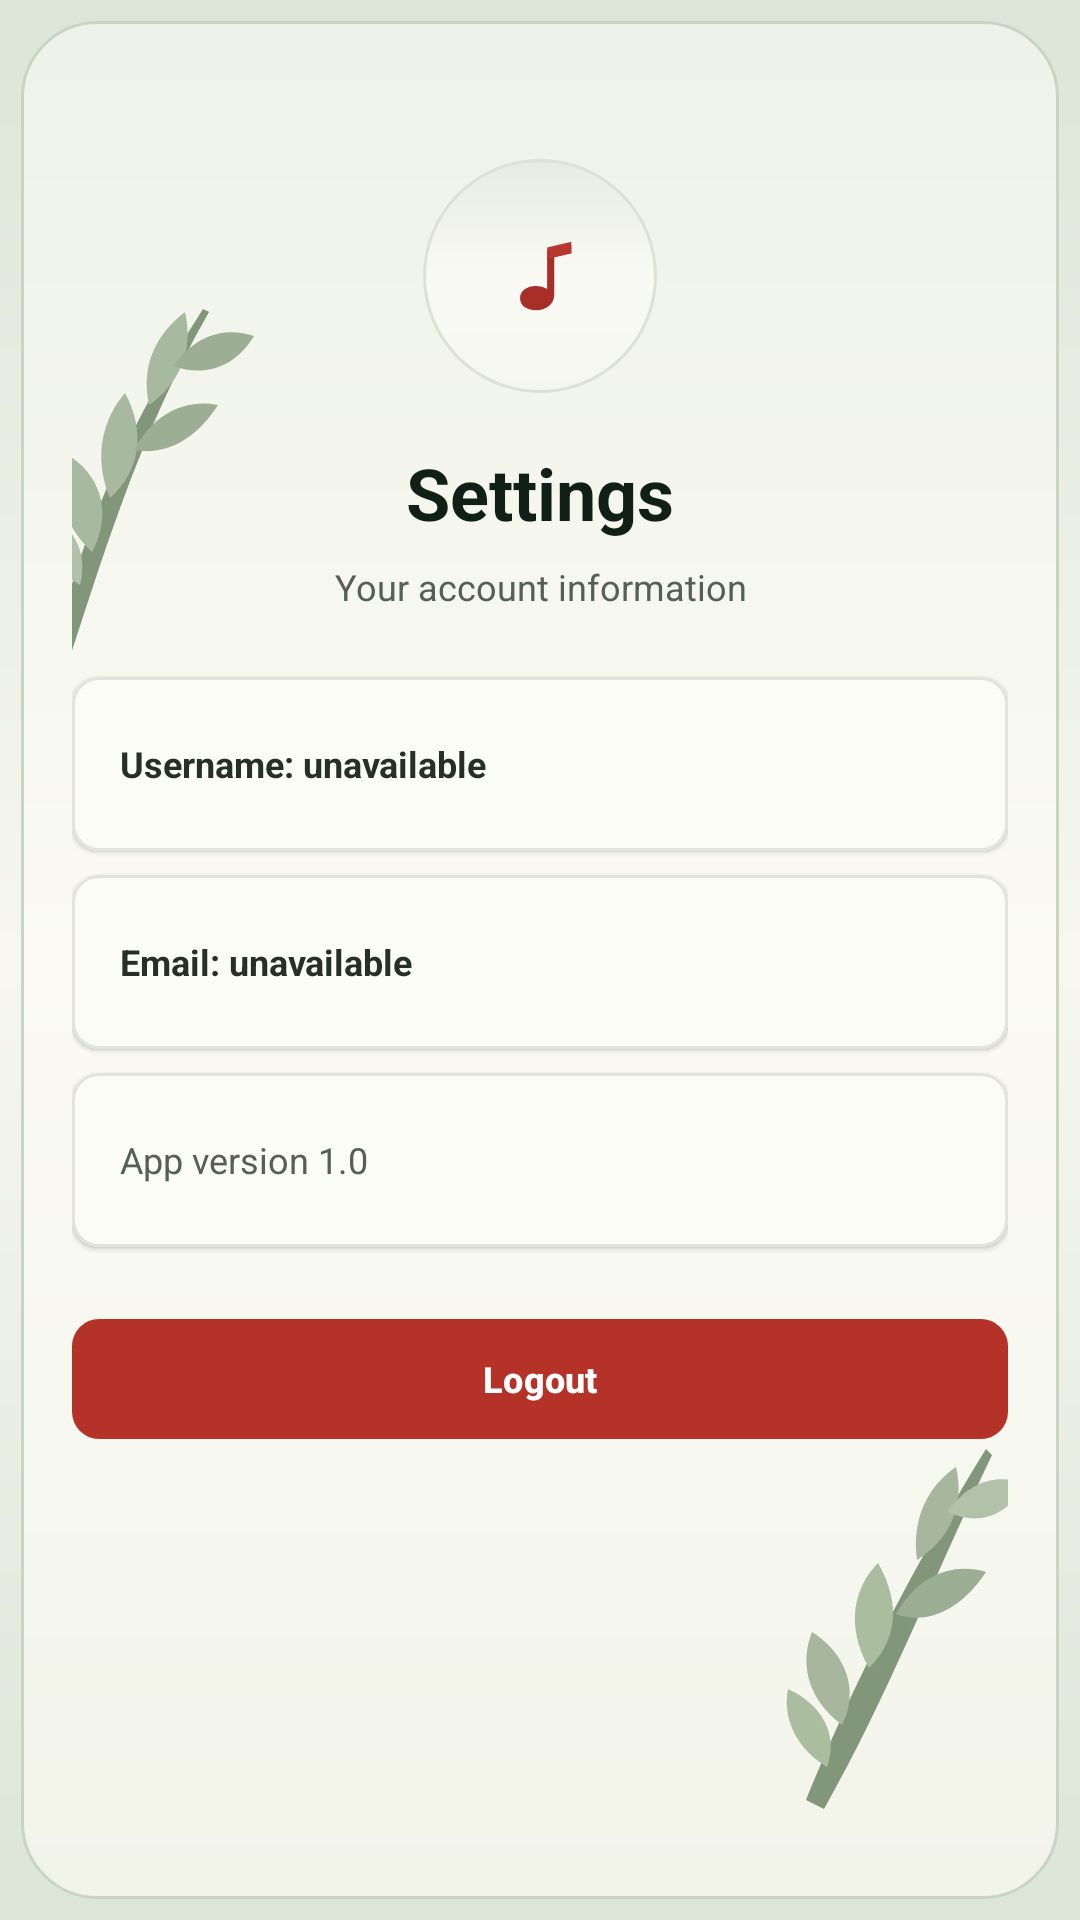

Where icons sit on this 1080 × 1920 app screen, as rect(x1, y1, x2, y2):
leaves bottom: rect(787, 1449, 1008, 1809)
leaves top: rect(72, 309, 254, 650)
music note: rect(520, 242, 572, 311)
